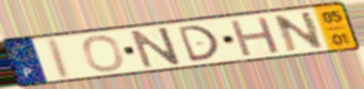D: (175, 24, 222, 64)
H: (227, 14, 283, 58)
I: (47, 36, 74, 81)
N: (271, 9, 327, 54), (128, 25, 184, 70)
O: (81, 34, 127, 73)
